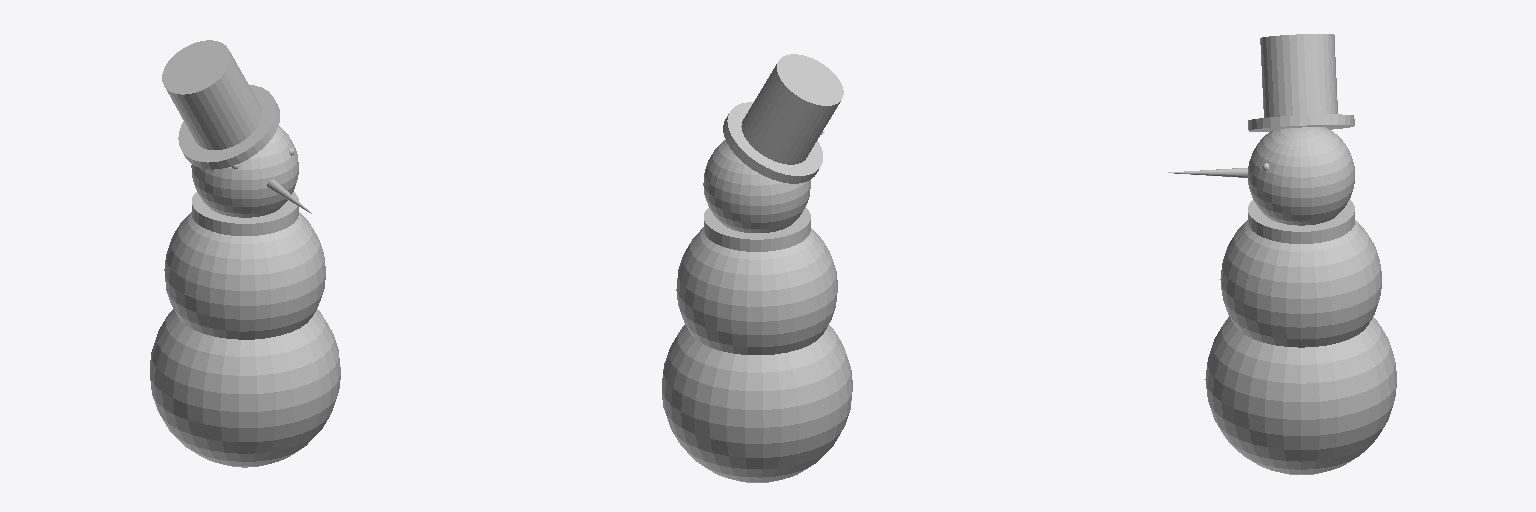
File: blender_snowman.obj
3 views of the same model, side by side, from view 1: azimuth 30°, elevation 25°; view 2: azimuth 150°, elevation 25°; view 3: azimuth 270°, elevation 25° (orthographic).
Visible parts, largest first — view 1: Sphere, Sphere.001, Cylinder.001, Sphere.002, Cylinder, Cylinder.002; view 2: Sphere, Sphere.001, Cylinder.001, Sphere.002, Cylinder, Cylinder.002; view 3: Sphere, Sphere.001, Sphere.002, Cylinder.001, Cylinder.002, Cylinder.
Part boxes in pixels (bbox=[...]): Sphere: bbox=[150, 309, 340, 467]; Sphere.001: bbox=[164, 212, 325, 339]; Cylinder.001: bbox=[162, 40, 261, 149]; Sphere.002: bbox=[191, 126, 298, 217]; Cylinder: bbox=[178, 85, 279, 169]; Cylinder.002: bbox=[192, 192, 298, 235]; Sphere: bbox=[662, 325, 852, 482]; Sphere.001: bbox=[676, 227, 837, 354]; Cylinder.001: bbox=[741, 54, 843, 164]; Sphere.002: bbox=[703, 140, 810, 232]; Cylinder: bbox=[723, 102, 822, 183]; Cylinder.002: bbox=[704, 207, 810, 251]; Sphere: bbox=[1205, 316, 1396, 474]; Sphere.001: bbox=[1220, 220, 1381, 347]; Sphere.002: bbox=[1248, 127, 1354, 225]; Cylinder.001: bbox=[1260, 34, 1337, 117]; Cylinder.002: bbox=[1248, 200, 1354, 243]; Cylinder: bbox=[1248, 114, 1354, 131].
Size of the model in its own units: 1.13 by 2.74 by 1.39.